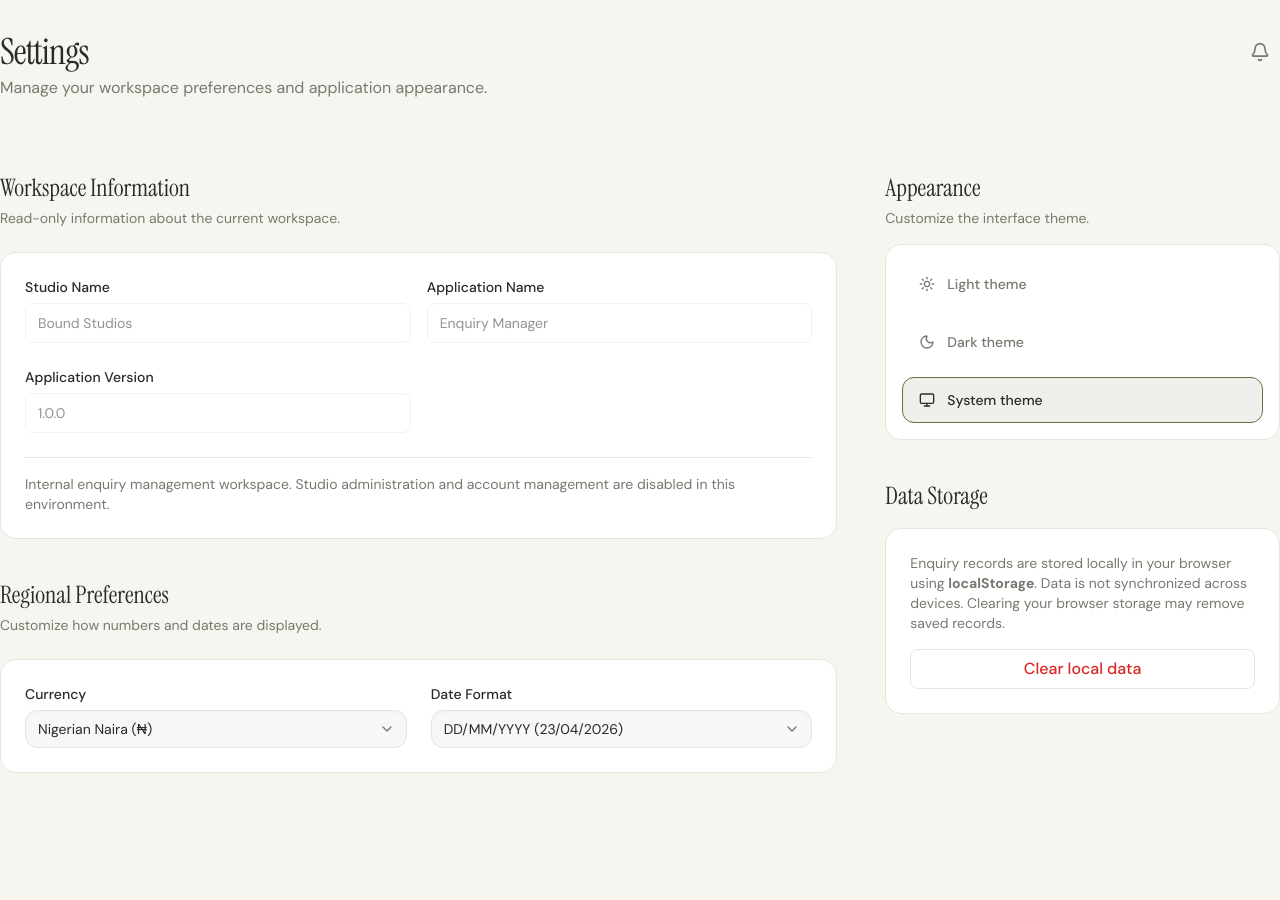
Settings page › does not delete data when the user cancels the confirmation
Click the button "Clear local data" at (1083, 669), box [910,649,1255,689]
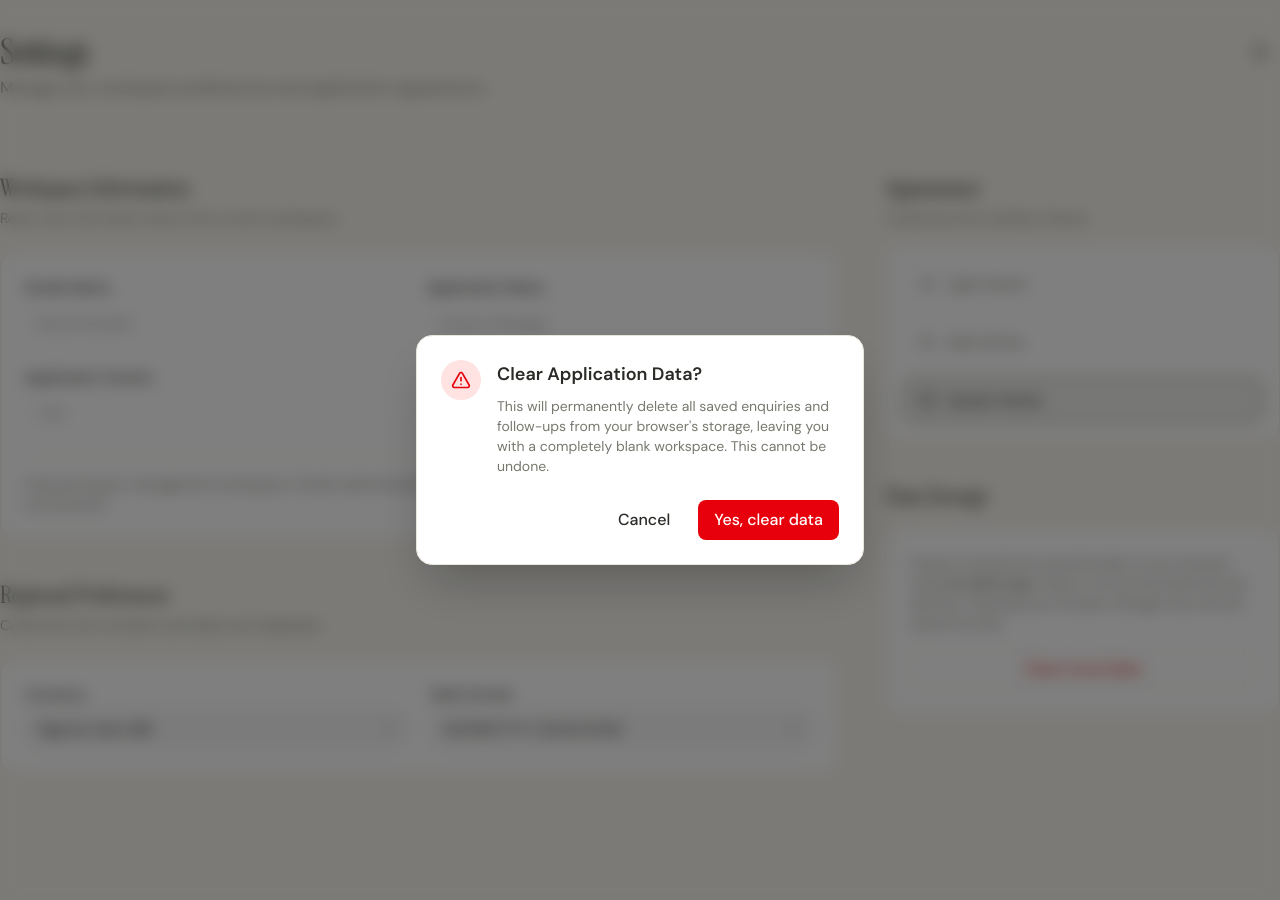
Click the button "Cancel" at (644, 520), box [602,500,686,540]
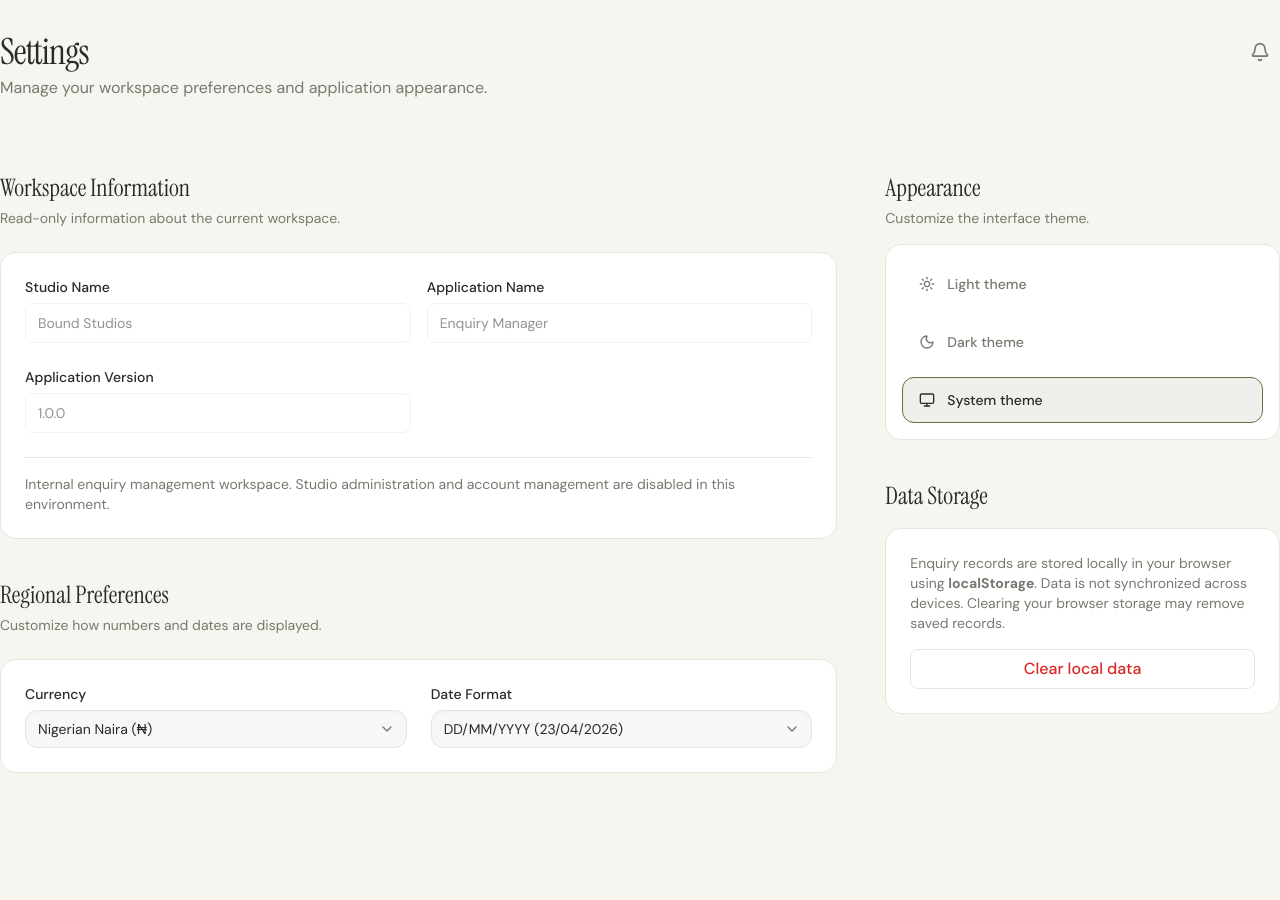
Now the heading "Clear Application Data?" is gone
